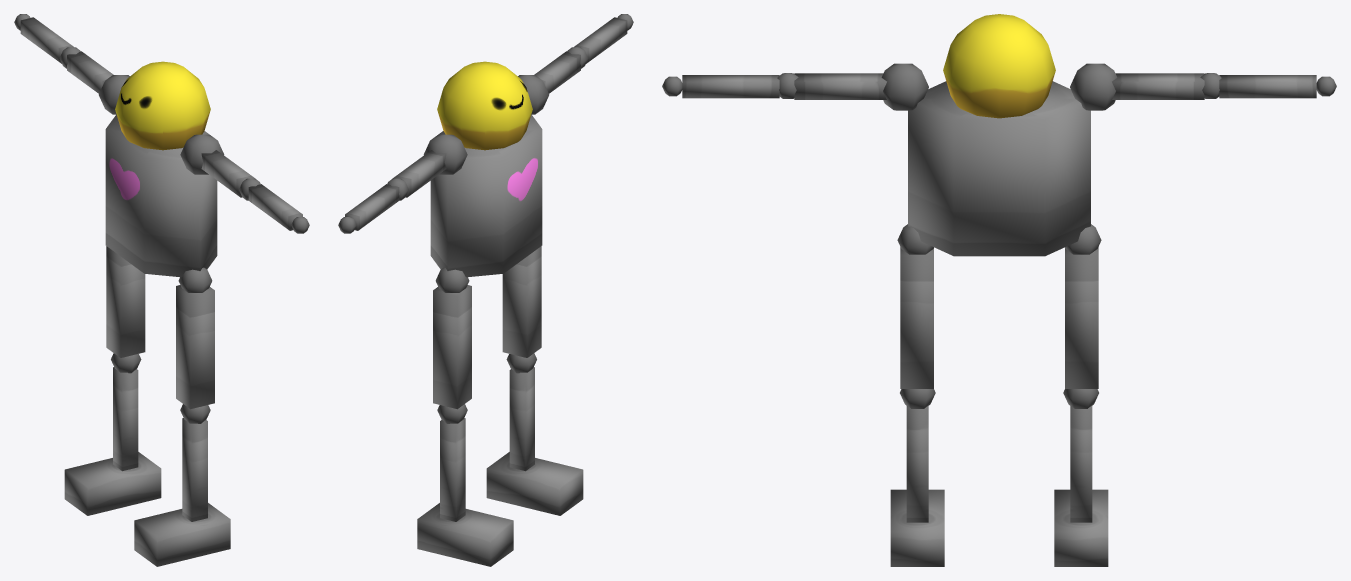
Rendered from Player.fbx.
3 renders of one model, left to right at view 1: azimuth 30°, elevation 25°; view 2: azimuth 150°, elevation 25°; view 3: azimuth 270°, elevation 25°, orthographic. The views are drawn at different scales.
Parts seen in each view (by area): view 1: Body, Head, ThighL, FootR, FootL, ThighR, ShinL, ShinR, UpperArmL, LowerArmL, LowerArmR, UpperArmR (+5 smaller); view 2: Body, Head, ThighR, FootL, FootR, ThighL, ShinR, ShinL, UpperArmR, LowerArmR, LowerArmL, UpperArmL (+5 smaller); view 3: Body, Head, ThighL, ThighR, FootL, FootR, ShinL, ShinR, UpperArmL, UpperArmR, LowerArmL, LowerArmR (+2 smaller).
Part boxes in pixels (x1=…): Body: x1=105, y1=114, x2=217, y2=277; Head: x1=115, y1=61, x2=210, y2=150; ThighL: x1=176, y1=285, x2=214, y2=409; FootR: x1=64, y1=452, x2=161, y2=515; FootL: x1=134, y1=503, x2=230, y2=566; ThighR: x1=106, y1=246, x2=145, y2=357; ShinL: x1=182, y1=418, x2=207, y2=521; ShinR: x1=113, y1=367, x2=138, y2=471; UpperArmL: x1=201, y1=150, x2=255, y2=197; LowerArmL: x1=248, y1=184, x2=302, y2=230; LowerArmR: x1=20, y1=17, x2=73, y2=63; UpperArmR: x1=67, y1=51, x2=113, y2=93; Body: x1=430, y1=114, x2=542, y2=277; Head: x1=437, y1=61, x2=532, y2=150; ThighR: x1=433, y1=285, x2=471, y2=409; FootL: x1=486, y1=452, x2=583, y2=515; FootR: x1=417, y1=503, x2=513, y2=566; ThighL: x1=502, y1=246, x2=541, y2=357; ShinR: x1=440, y1=418, x2=465, y2=521; ShinL: x1=509, y1=367, x2=534, y2=471; UpperArmR: x1=392, y1=150, x2=446, y2=197; LowerArmR: x1=345, y1=184, x2=399, y2=230; LowerArmL: x1=574, y1=17, x2=627, y2=63; UpperArmL: x1=534, y1=51, x2=580, y2=93; Body: x1=908, y1=81, x2=1090, y2=256; Head: x1=943, y1=14, x2=1055, y2=118; ThighL: x1=900, y1=247, x2=933, y2=388; ThighR: x1=1065, y1=247, x2=1098, y2=388; FootL: x1=890, y1=489, x2=944, y2=566; FootR: x1=1054, y1=489, x2=1108, y2=566; ShinL: x1=906, y1=405, x2=928, y2=522; ShinR: x1=1070, y1=405, x2=1092, y2=522; UpperArmL: x1=794, y1=73, x2=886, y2=99; UpperArmR: x1=1112, y1=73, x2=1204, y2=99; LowerArmL: x1=682, y1=75, x2=779, y2=98; LowerArmR: x1=1219, y1=75, x2=1316, y2=98.
Bounding box in the file's own units: 24.51 × 114 × 130.
Materials: 1 (1 with a texture image).
